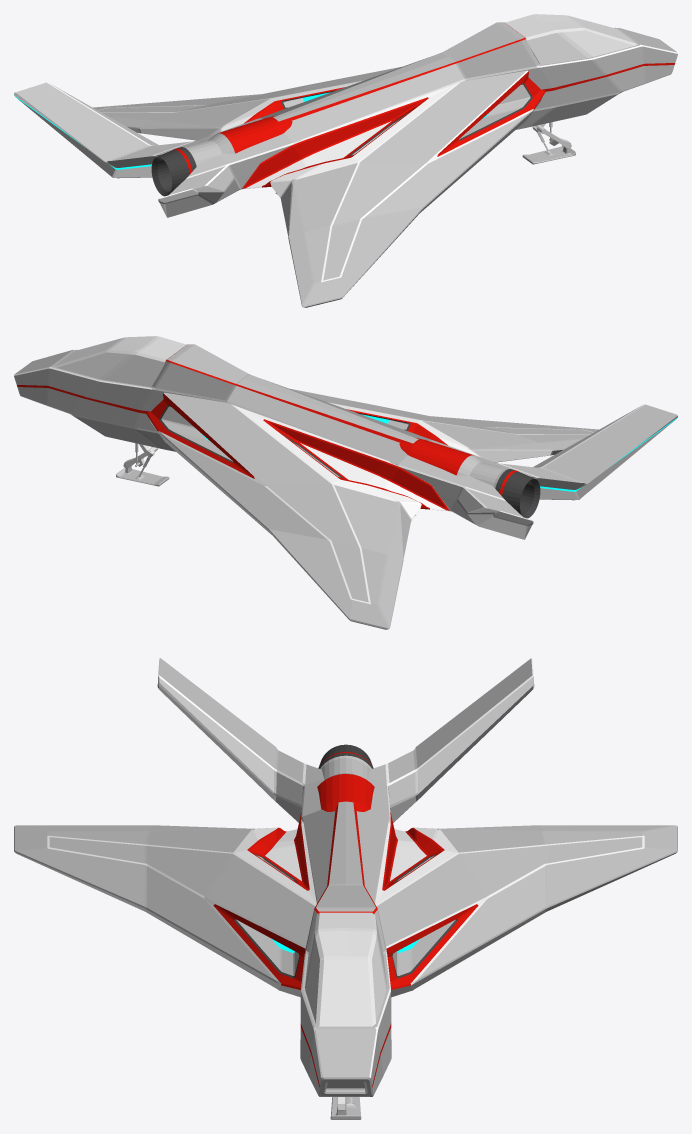
Rendered from zero.fbx.
3 renders of one model, top to bottom at view 1: azimuth 30°, elevation 25°; view 2: azimuth 150°, elevation 25°; view 3: azimuth 270°, elevation 25°, orthographic. The views are drawn at different scales.
Visible parts, largest first — view 1: wing, body, cockpit_glass, main_engine, front_landing_gear_shield; view 2: wing, body, cockpit_glass, main_engine, front_landing_gear_shield; view 3: wing, body, cockpit_glass, main_engine.
Part boxes in pixels (x1,y1,x2,y2): wing: (93, 66, 545, 307); body: (14, 22, 677, 217); cockpit_glass: (505, 14, 637, 64); main_engine: (151, 116, 292, 196); front_landing_gear_shield: (522, 145, 575, 164); wing: (146, 388, 598, 629); body: (14, 344, 677, 539); cockpit_glass: (54, 336, 186, 386); main_engine: (399, 438, 540, 518); front_landing_gear_shield: (116, 466, 169, 486); wing: (14, 813, 677, 997); body: (157, 658, 534, 1096); cockpit_glass: (305, 912, 386, 1026); main_engine: (317, 744, 374, 811).
Size of the model in its own units: 2311 by 517 by 1773.
